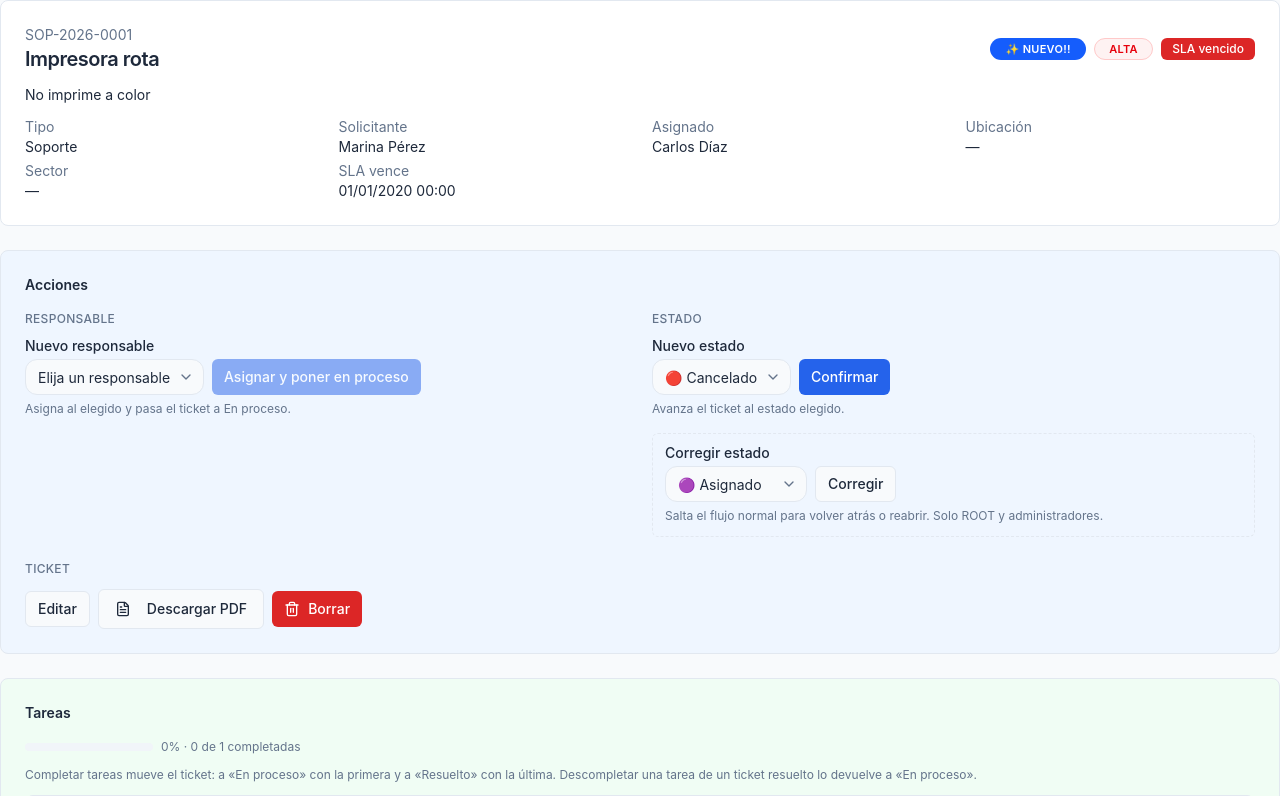
Test: TicketDetailView — gating de acciones por permiso › tras «Asignar y poner en proceso» el control pasa a «Cambiar responsable» con la elección vacía
expect the heading "Impresora rota" is shown: met, box [25, 45, 159, 73]
Select "Ana García" in the dropdown labelled "Nuevo responsable": (114, 377) [25, 359, 204, 395]
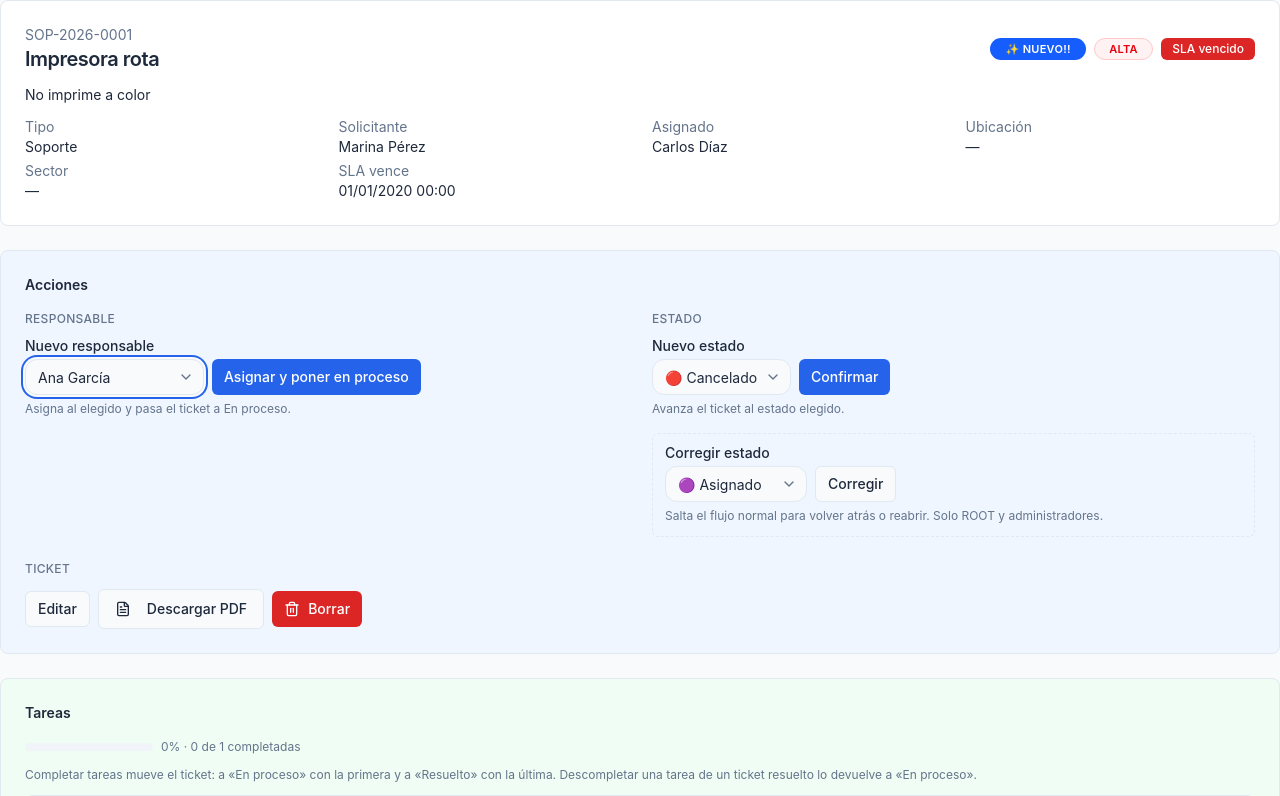
Click the button "Asignar y poner en proceso": click(316, 377) [212, 359, 421, 395]
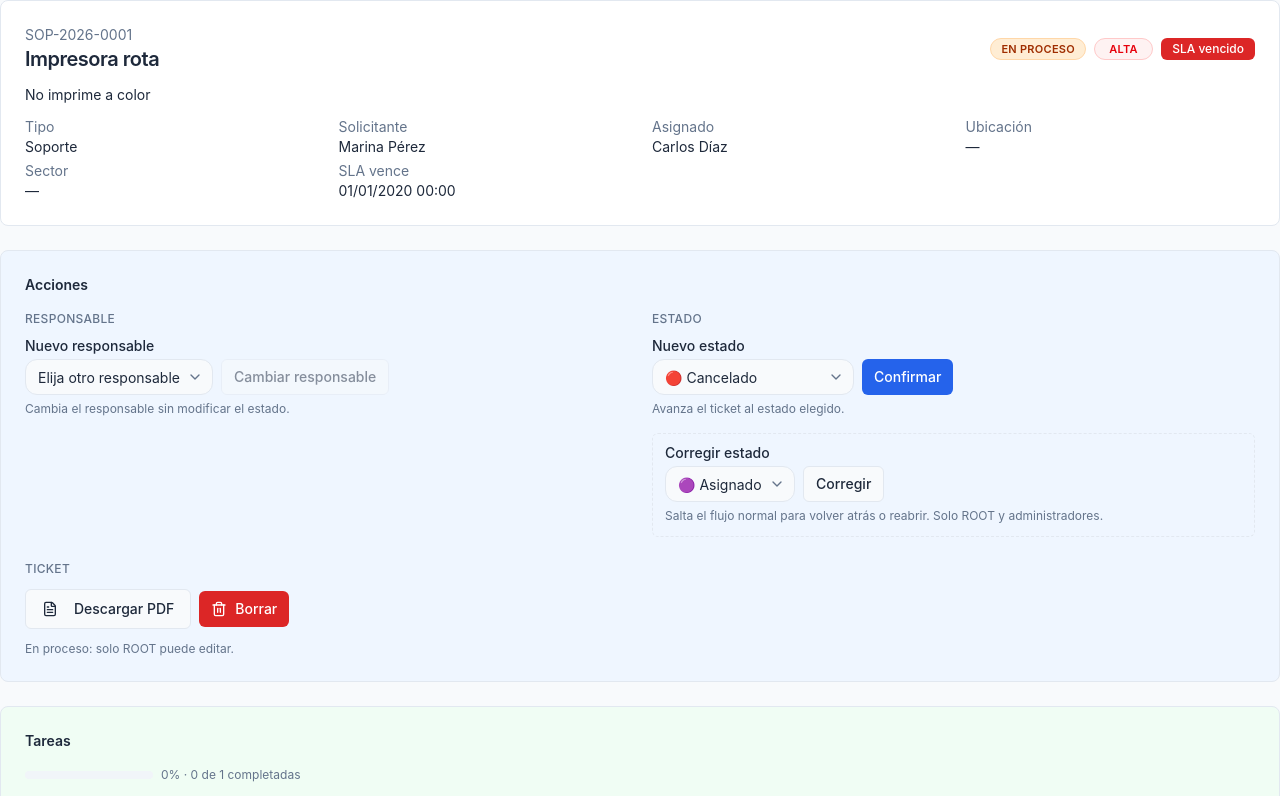
expect the dropdown labelled "Nuevo responsable" shows "Elija otro responsable": met, box [25, 359, 213, 395]
expect the button "Cambiar responsable" is disabled: met, box [221, 359, 389, 395]
